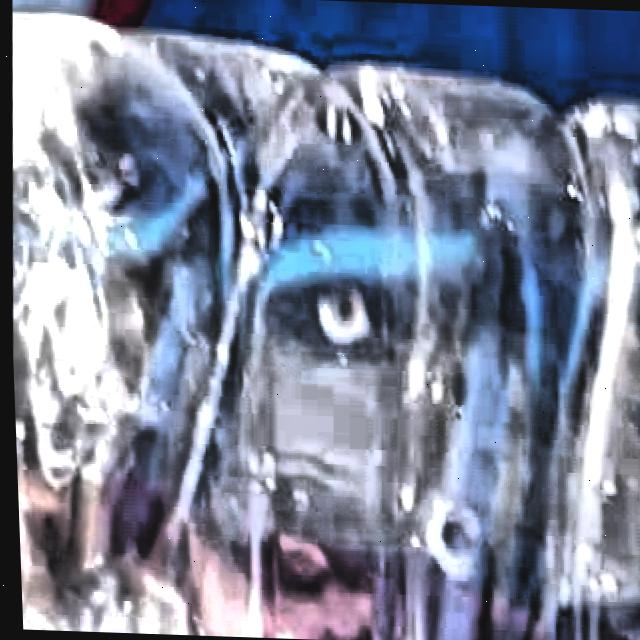plastic: (9, 15, 640, 640)
